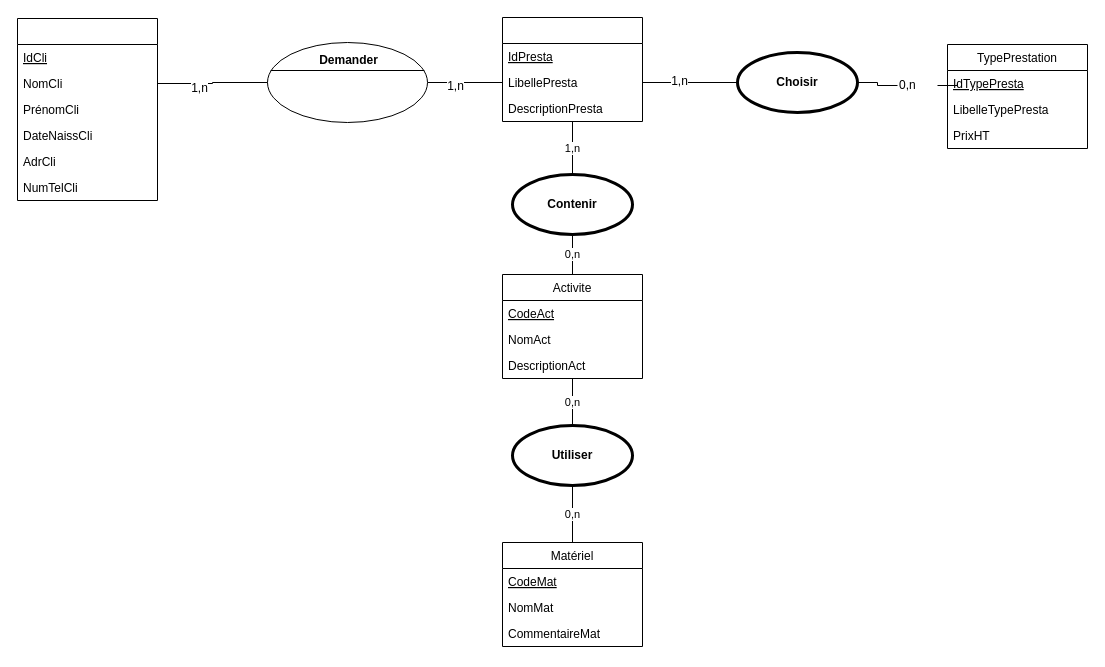
Some shapes in this 1105 by 667 pixel diagram are drawn without their labels. The box of each missing label's shape, as (x1, y1, x2, y2) in pixels:
Client: (16, 18, 158, 200)
DatePresta,HeurePresta: (266, 42, 428, 122)
Prestation: (502, 16, 642, 122)
